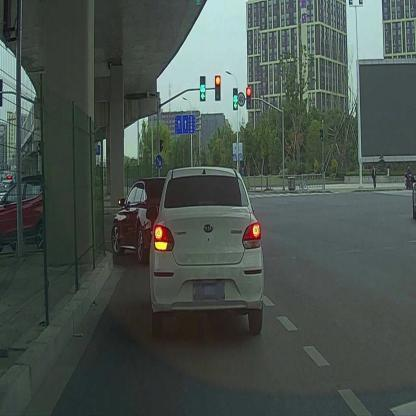Green Light: (199, 75, 206, 102), (233, 87, 238, 111)
Red Light: (246, 86, 252, 110), (216, 76, 221, 100)
